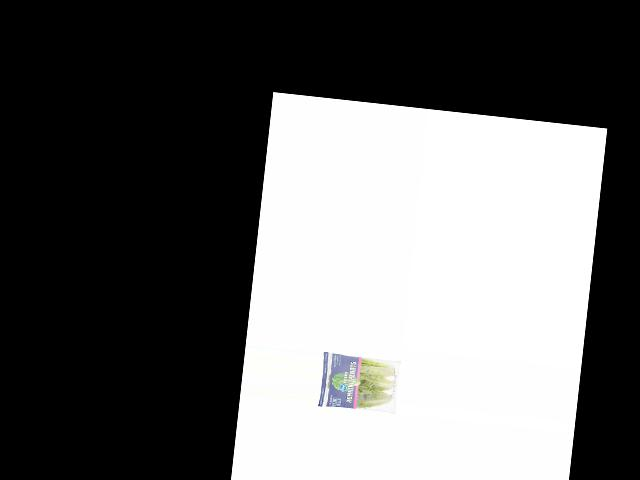lettuce: (319, 349, 399, 416)
